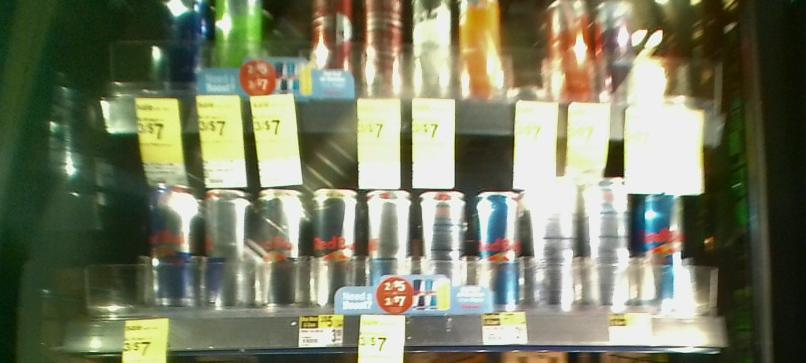bottle: (632, 170, 688, 305), (415, 182, 471, 311), (581, 172, 632, 311), (146, 179, 198, 306), (527, 177, 576, 311), (362, 179, 413, 307), (310, 178, 359, 305), (201, 183, 248, 309), (258, 178, 307, 298), (477, 190, 522, 311)
